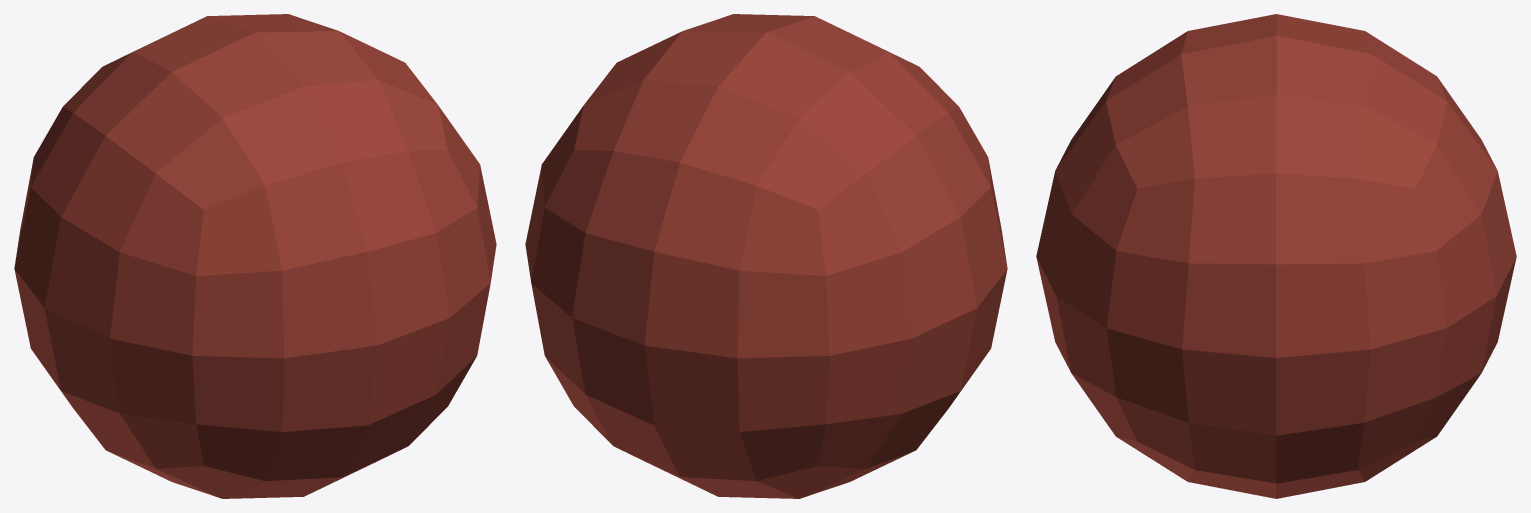
File: SM_Env_Scale_Mars_01.fbx
The picture shows the model from 3 angles, left to right: view 1: azimuth 30°, elevation 25°; view 2: azimuth 150°, elevation 25°; view 3: azimuth 270°, elevation 25°; orthographic projection.
Visible parts, largest first — view 1: SM_Env_Scale_Mars_01; view 2: SM_Env_Scale_Mars_01; view 3: SM_Env_Scale_Mars_01.
Boxes of the visible parts, x1=… form: SM_Env_Scale_Mars_01: x1=14, y1=14, x2=496, y2=498; SM_Env_Scale_Mars_01: x1=525, y1=14, x2=1007, y2=498; SM_Env_Scale_Mars_01: x1=1036, y1=14, x2=1516, y2=498.
Bounding box in the file's own units: 5.17 × 5.25 × 5.17.
